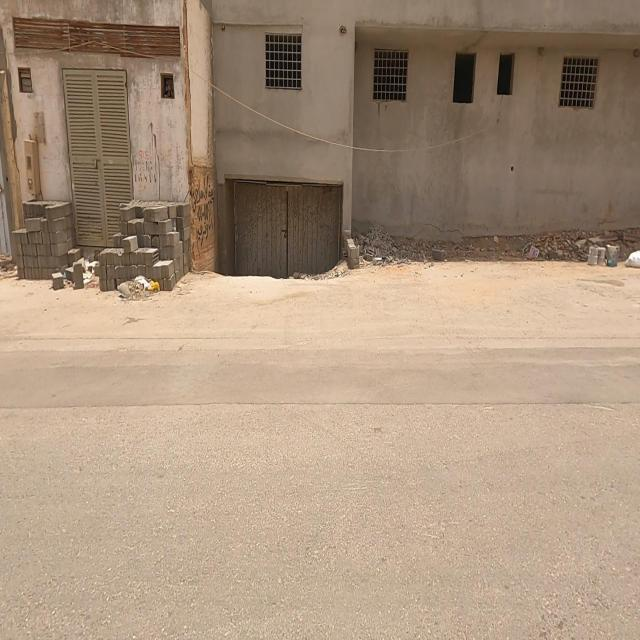Graffiti: (190, 171, 217, 260)
